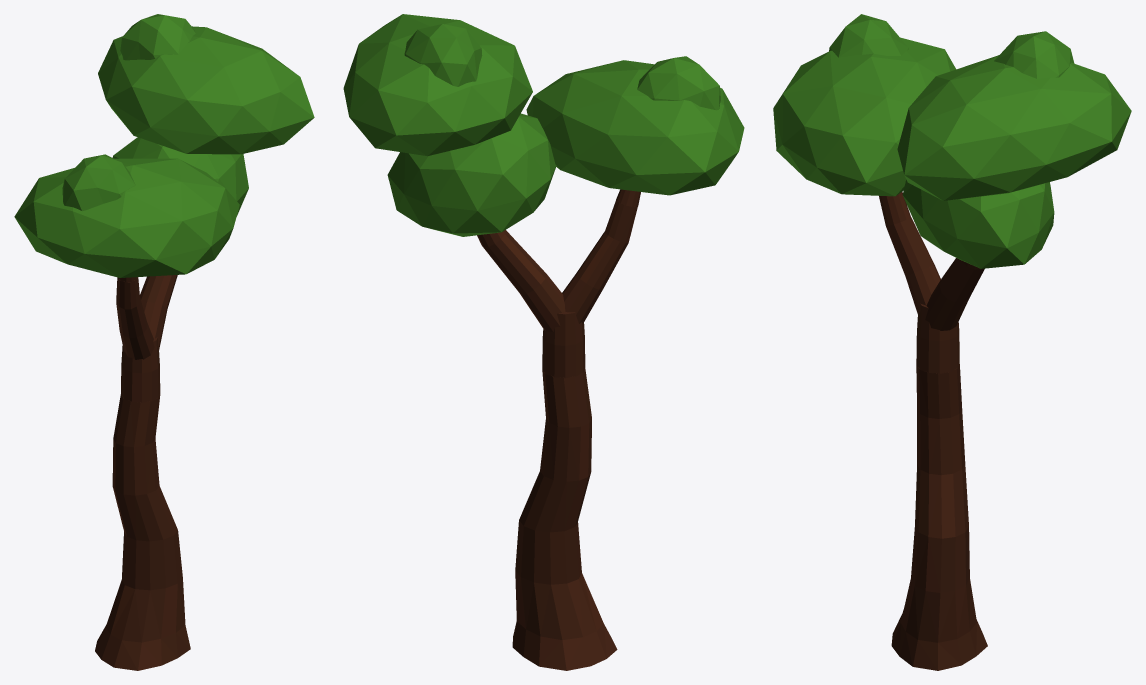
The model's file is GR_Tree_Slim_LOD0.fbx.
3 renders of one model, left to right at view 1: azimuth 30°, elevation 25°; view 2: azimuth 150°, elevation 25°; view 3: azimuth 270°, elevation 25°, orthographic. The views are drawn at different scales.
Visible parts, largest first — view 1: GR_Tree_Slim_LOD0; view 2: GR_Tree_Slim_LOD0; view 3: GR_Tree_Slim_LOD0.
Boxes of the visible parts, bbox=[...] form: GR_Tree_Slim_LOD0: bbox=[14, 14, 314, 670]; GR_Tree_Slim_LOD0: bbox=[343, 14, 744, 670]; GR_Tree_Slim_LOD0: bbox=[773, 14, 1131, 670].
Size of the model in its own units: 2.47 by 4.58 by 2.31.
Materials: 2 (2 with a texture image).
